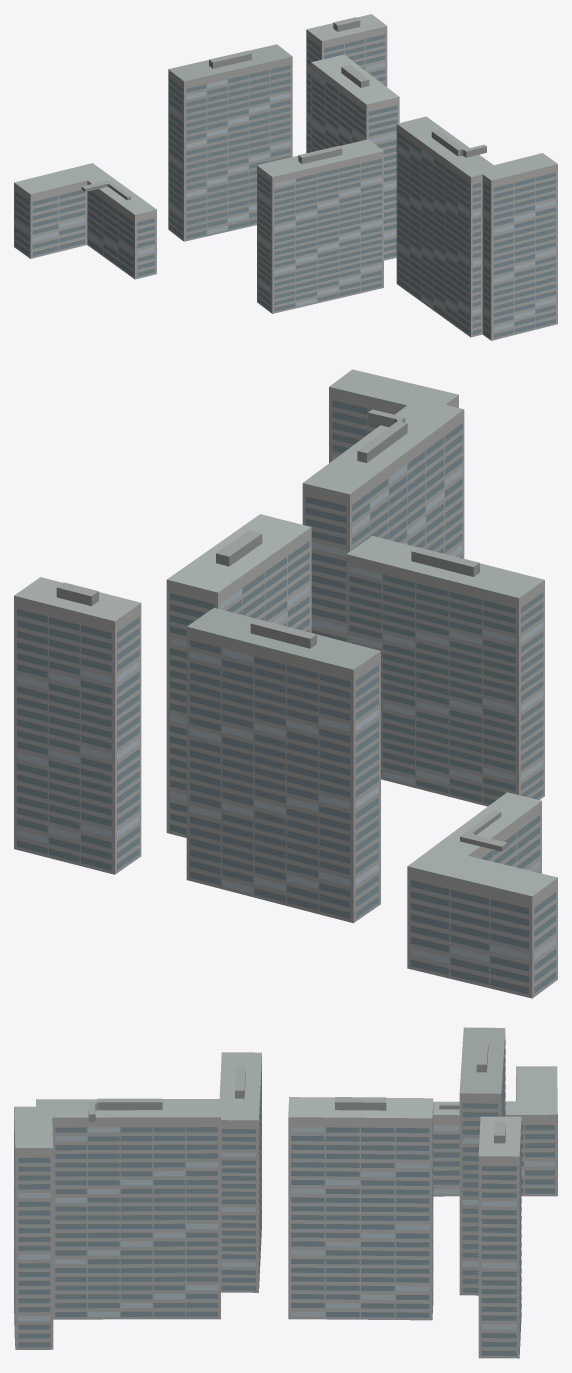
The model's file is apt-a13003201.glb.
The picture shows the model from 3 angles, top to bottom: view 1: azimuth 30°, elevation 25°; view 2: azimuth 150°, elevation 25°; view 3: azimuth 270°, elevation 25°; orthographic projection. The views are drawn at different scales.
Parts seen in each view (by area): view 1: apt-a13003201; view 2: apt-a13003201; view 3: apt-a13003201.
Part boxes in pixels (box(x1,y1,x2,y2)): apt-a13003201: box(14, 14, 557, 340); apt-a13003201: box(14, 369, 557, 998); apt-a13003201: box(14, 1027, 557, 1358).
Bounding box in the file's own units: 138 × 64 × 150.
